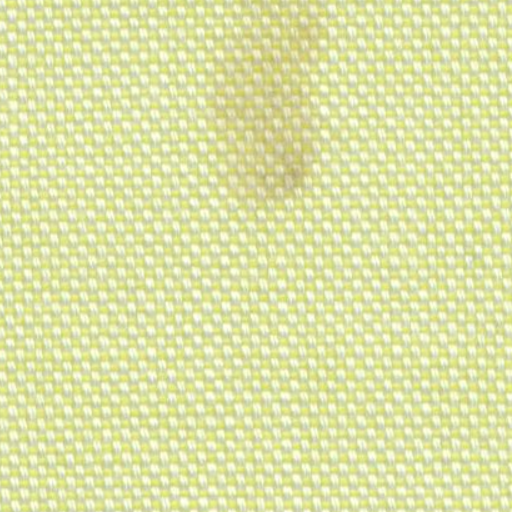WuZi: (196, 10, 338, 214)
